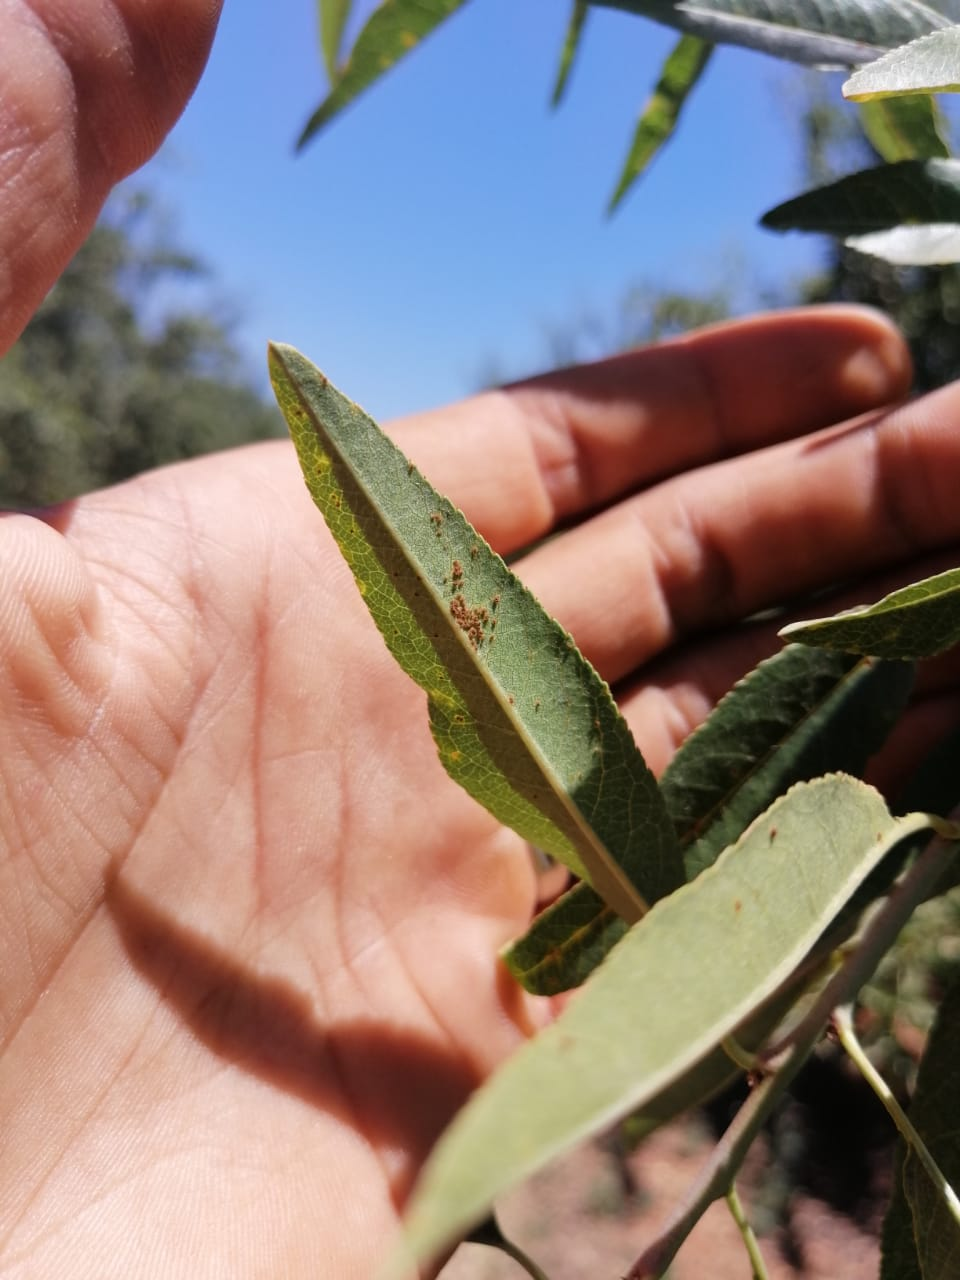rouille: (153, 291, 651, 431), (34, 240, 255, 526), (549, 829, 959, 983), (232, 423, 418, 599), (278, 507, 456, 667), (486, 672, 710, 796)
